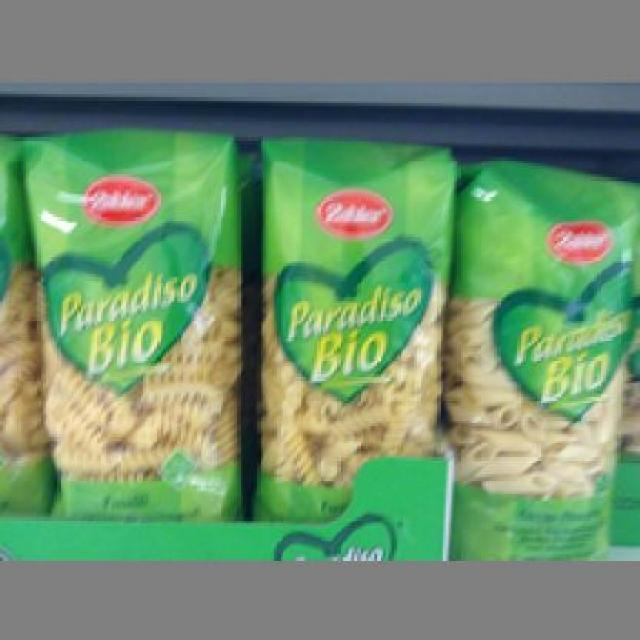Pasta: (17, 125, 243, 518), (442, 154, 638, 557), (248, 137, 454, 517)
